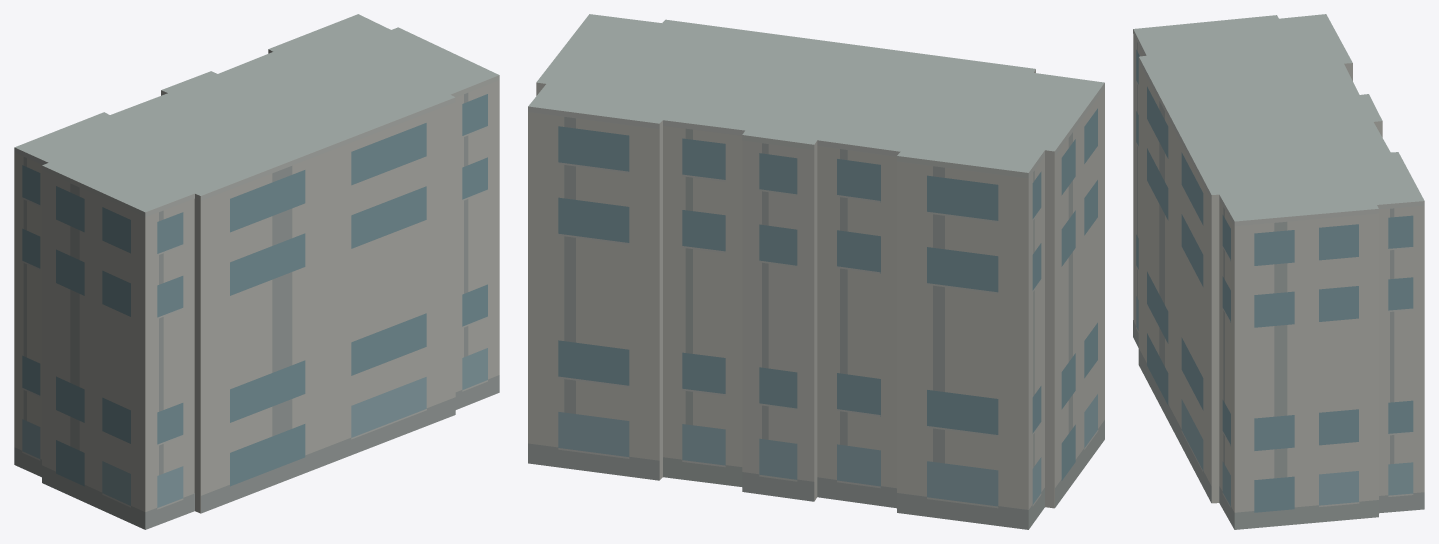
File: survey-upis-32818928.glb
3 renders of one model, left to right at view 1: azimuth 30°, elevation 25°; view 2: azimuth 150°, elevation 25°; view 3: azimuth 270°, elevation 25°, orthographic. The views are drawn at different scales.
Visible parts, largest first — view 1: survey-upis-32818928.tmp; view 2: survey-upis-32818928.tmp; view 3: survey-upis-32818928.tmp.
Boxes of the visible parts, left/top/right/bottom form: survey-upis-32818928.tmp: left=14, top=14, right=499, bottom=529; survey-upis-32818928.tmp: left=528, top=14, right=1104, bottom=529; survey-upis-32818928.tmp: left=1133, top=14, right=1424, bottom=529.
Bounding box in the file's own units: 22.38 × 15.5 × 13.29.
